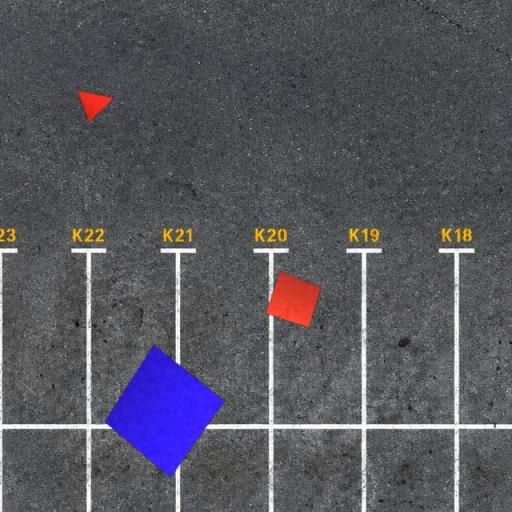BLUE_SQUARE: (104, 344, 226, 478)
RED_SQUARE: (265, 270, 322, 328)
